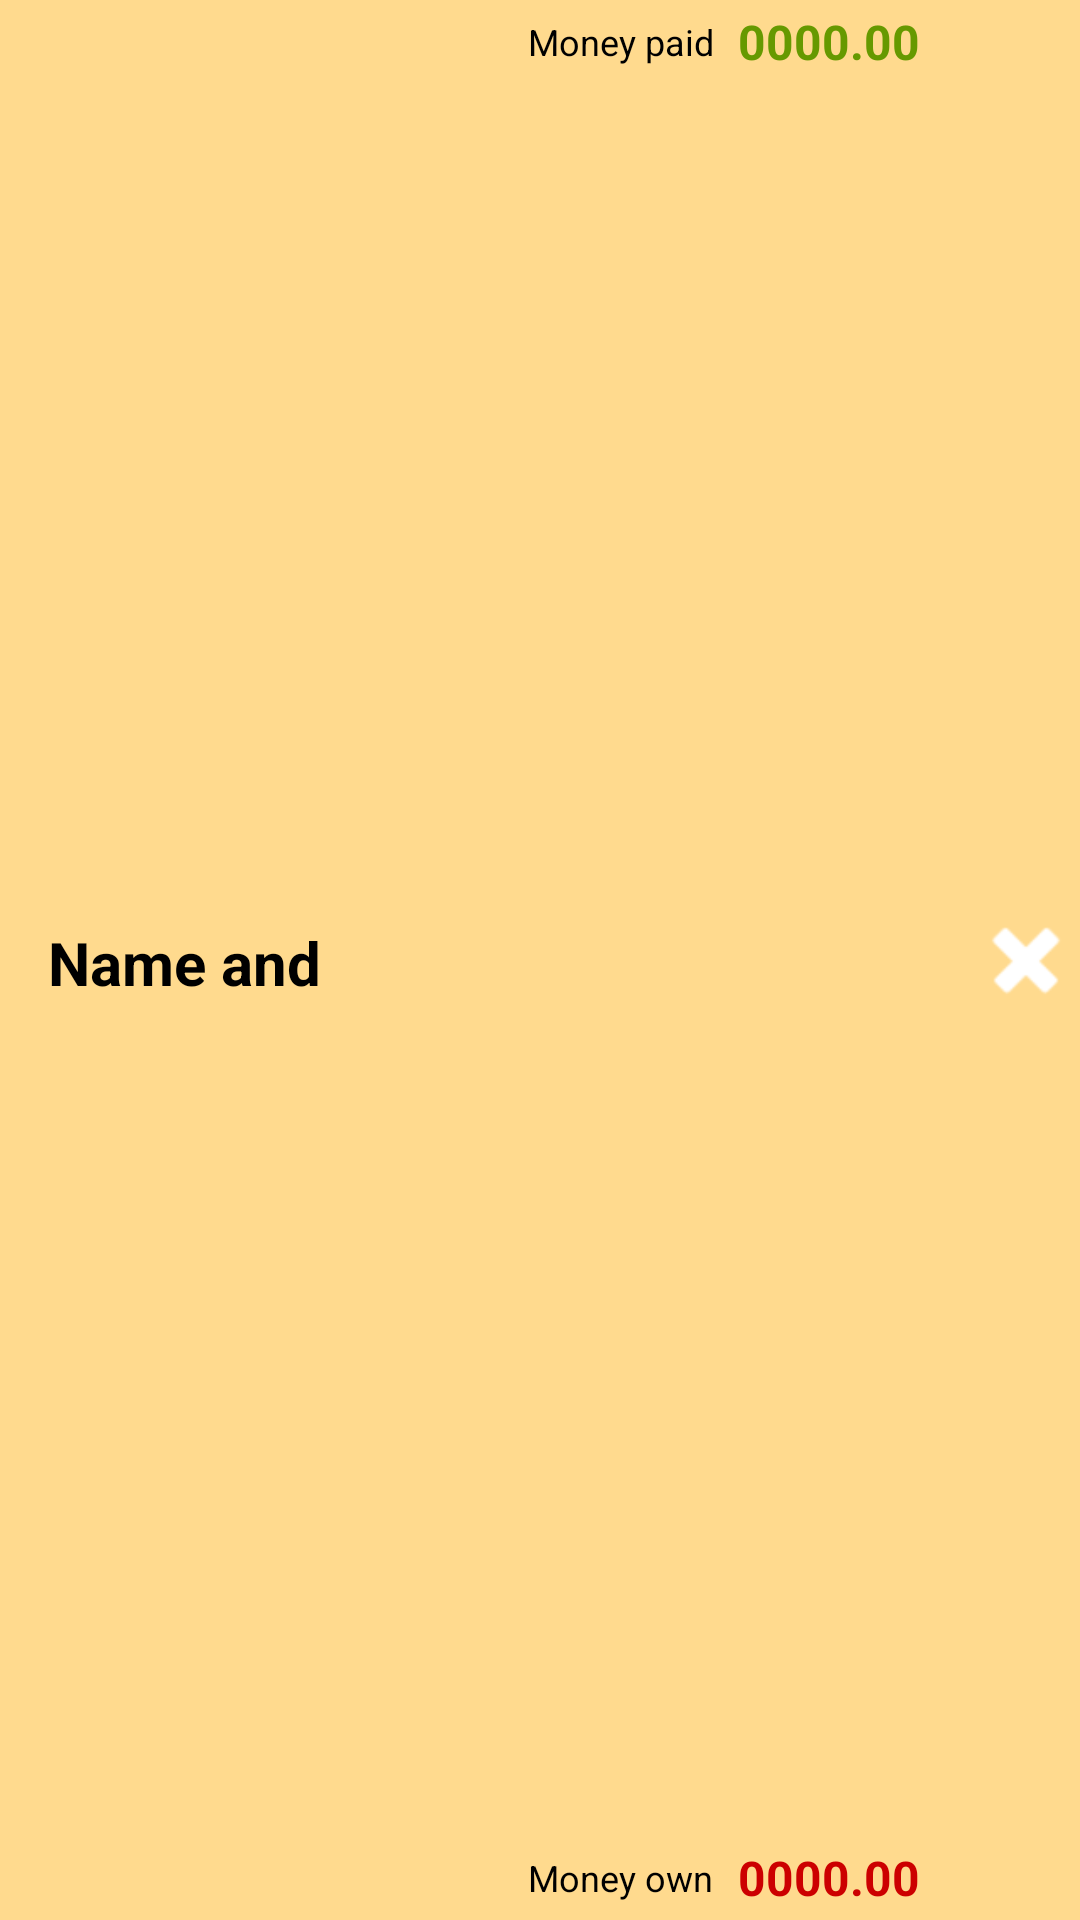

Icons on this 1080w x 1920h Android screen, each with its box as (x1, y1, x2, y2):
delete: (992, 928, 1060, 994)
